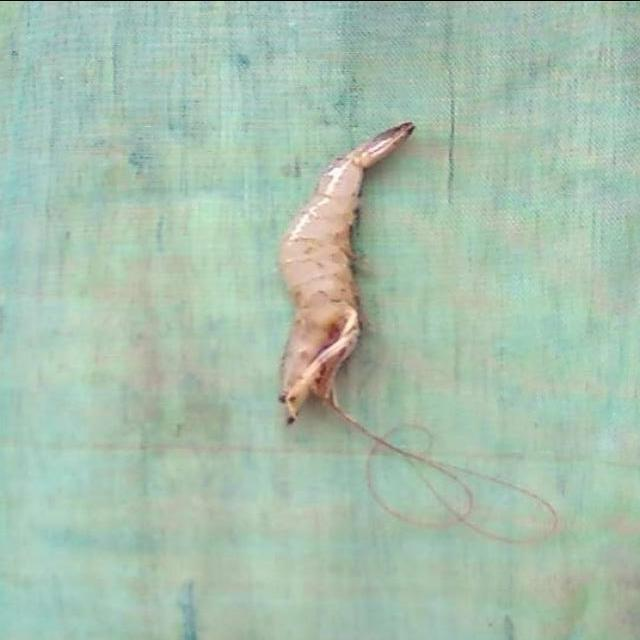shrimp: (279, 121, 414, 424)
